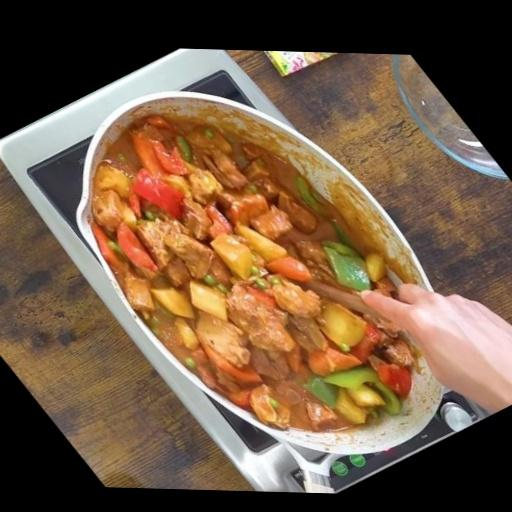pork caldereta: (91, 113, 417, 418)
